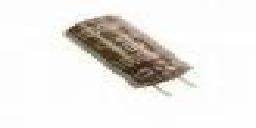Electrolytic-Capacitor: (61, 13, 200, 98)
